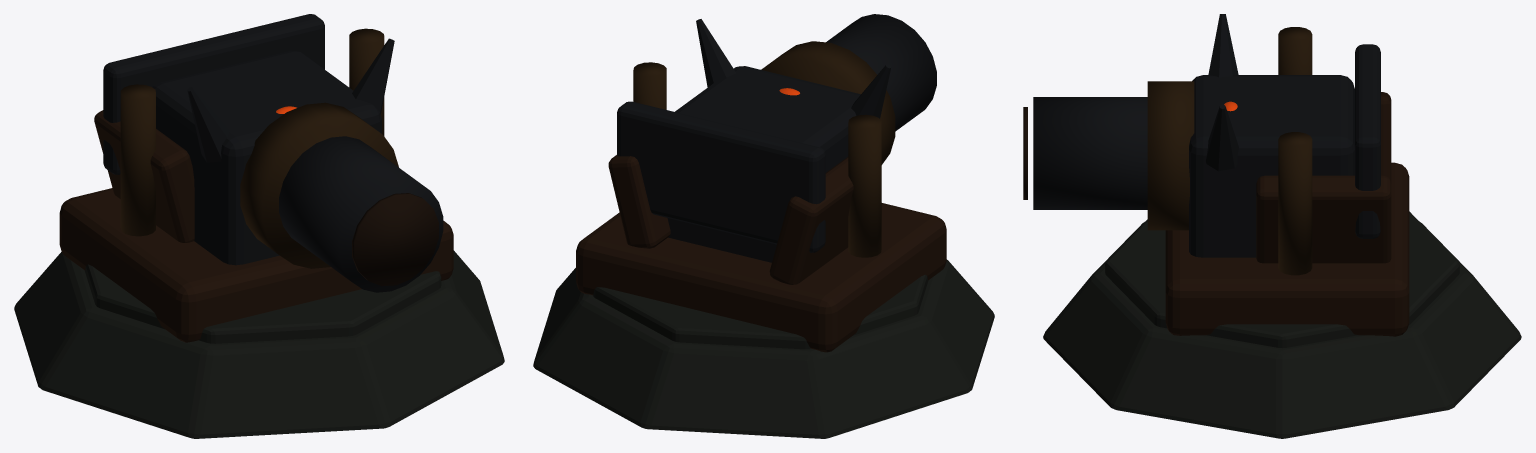
The model's file is TowerChaos2.obj.
3 renders of one model, left to right at view 1: azimuth 30°, elevation 25°; view 2: azimuth 150°, elevation 25°; view 3: azimuth 270°, elevation 25°, orthographic. The views are drawn at different scales.
Visible parts, largest first — view 1: black_stone_furnace_base_lower_course, oak_fire_cradle, iron_furnace_jacket, iron_blast_barrel, black_stone_furnace_base_upper_course, bronze_blast_collar, iron_furnace_shield, black_fire_mouth, bronze_pressure_pipe, oak_bellows_arm, iron_heat_fin, bronze_pressure_pipe.001 (+1 smaller); view 2: black_stone_furnace_base_lower_course, oak_fire_cradle, iron_furnace_shield, iron_furnace_jacket, black_stone_furnace_base_upper_course, iron_blast_barrel, oak_bellows_arm, bronze_pressure_pipe, bronze_blast_collar, oak_bellows_arm.001, bronze_pressure_pipe.001, iron_heat_fin.001 (+1 smaller); view 3: black_stone_furnace_base_lower_course, iron_furnace_jacket, oak_fire_cradle, iron_blast_barrel, black_stone_furnace_base_upper_course, oak_bellows_arm.001, bronze_blast_collar, bronze_pressure_pipe.001, iron_furnace_shield, bronze_pressure_pipe, iron_heat_fin.001, iron_heat_fin (+1 smaller).
Part boxes in pixels (x1,y1,x2,y2): black_stone_furnace_base_lower_course: (14, 250, 504, 438); oak_fire_cradle: (59, 188, 453, 342); iron_furnace_jacket: (152, 50, 381, 265); iron_blast_barrel: (279, 136, 443, 292); black_stone_furnace_base_upper_course: (84, 264, 441, 343); bronze_blast_collar: (240, 102, 398, 268); iron_furnace_shield: (103, 14, 324, 174); black_fire_mouth: (352, 193, 438, 286); bronze_pressure_pipe: (120, 84, 155, 236); oak_bellows_arm: (94, 110, 194, 242); iron_heat_fin: (187, 87, 229, 162); bronze_pressure_pipe.001: (349, 28, 384, 135); black_stone_furnace_base_lower_course: (533, 259, 994, 438); oak_fire_cradle: (576, 203, 946, 352); iron_furnace_shield: (617, 101, 825, 252); iron_furnace_jacket: (667, 66, 860, 262); black_stone_furnace_base_upper_course: (593, 274, 928, 349); iron_blast_barrel: (826, 14, 936, 131); oak_bellows_arm: (769, 157, 853, 284); bronze_pressure_pipe: (848, 114, 881, 257); bronze_blast_collar: (761, 41, 895, 164); oak_bellows_arm.001: (608, 155, 670, 248); bronze_pressure_pipe.001: (633, 62, 666, 109); iron_heat_fin.001: (696, 19, 735, 87); black_stone_furnace_base_lower_course: (1043, 221, 1521, 438); iron_furnace_jacket: (1189, 75, 1354, 257); oak_fire_cradle: (1165, 162, 1409, 336); iron_blast_barrel: (1033, 97, 1147, 209); black_stone_furnace_base_upper_course: (1105, 211, 1459, 348); oak_bellows_arm.001: (1256, 175, 1391, 263); bronze_blast_collar: (1147, 81, 1194, 230); bronze_pressure_pipe.001: (1278, 132, 1312, 275); iron_furnace_shield: (1355, 44, 1380, 238); bronze_pressure_pipe: (1278, 27, 1312, 74); iron_heat_fin.001: (1206, 104, 1238, 171); iron_heat_fin: (1208, 14, 1238, 77).
Bounding box in the file's own units: 1.85 × 1.19 × 1.92.
